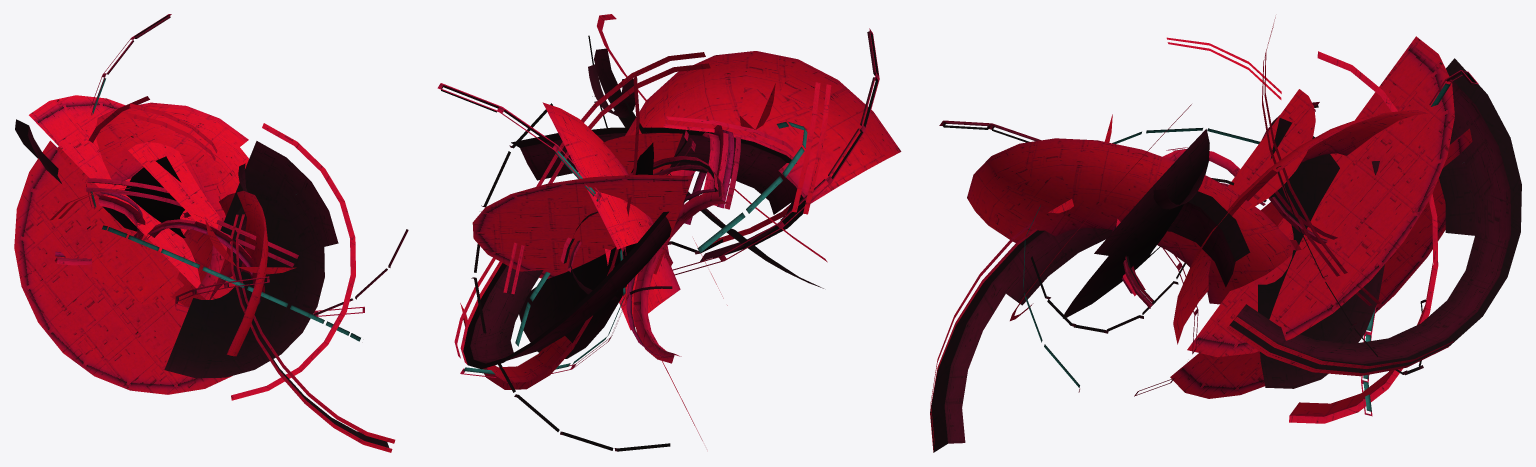
File: MonsterB_Die10.obj
3 views of the same model, side by side, from view 1: azimuth 30°, elevation 25°; view 2: azimuth 150°, elevation 25°; view 3: azimuth 270°, elevation 25° (orthographic). The views are drawn at different scales.
Visible parts, largest first — view 1: Sphere001; view 2: Sphere001; view 3: Sphere001.
Part boxes in pixels (x1,y1,x2,y2): Sphere001: [14, 14, 408, 452]; Sphere001: [437, 14, 901, 451]; Sphere001: [930, 17, 1521, 452].
Size of the model in its own units: 198 by 210 by 303.
Materials: 1 (1 with a texture image).
